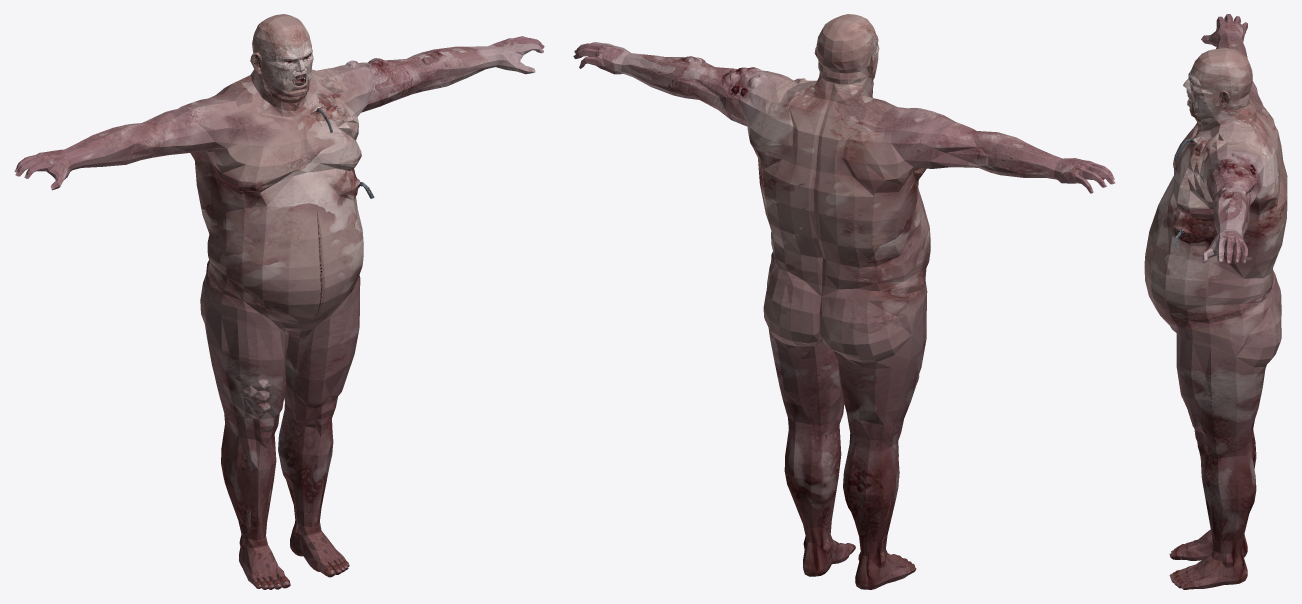
The model's file is enemy.obj.
3 renders of one model, left to right at view 1: azimuth 30°, elevation 25°; view 2: azimuth 150°, elevation 25°; view 3: azimuth 270°, elevation 25°, orthographic. The views are drawn at different scales.
Visible parts, largest first — view 1: None_None.002, 3_None, None_None, None_None.003, 1_None, None_None.001, 2_None, 2_None.001; view 2: None_None, None_None.002, None_None.003, 2_None, None_None.001, 2_None.001, 3_None; view 3: None_None.002, None_None, 3_None, None_None.001, None_None.003, 1_None, 2_None, 2_None.001.
Part boxes in pixels (<box>): None_None.002: <box>205,290,359,589</box>; 3_None: <box>207,172,363,320</box>; None_None: <box>190,68,360,338</box>; None_None.003: <box>142,58,422,157</box>; 1_None: <box>206,105,361,192</box>; None_None.001: <box>233,14,316,116</box>; 2_None: <box>62,45,499,171</box>; 2_None.001: <box>14,36,544,190</box>; None_None: <box>748,78,927,362</box>; None_None.002: <box>768,302,926,589</box>; None_None.003: <box>678,67,989,170</box>; 2_None: <box>618,51,1064,179</box>; None_None.001: <box>797,14,882,108</box>; 2_None.001: <box>573,42,1115,193</box>; 3_None: <box>900,188,930,275</box>; None_None.002: <box>1169,336,1266,589</box>; None_None: <box>1166,97,1287,367</box>; 3_None: <box>1144,176,1244,323</box>; None_None.001: <box>1183,47,1256,137</box>; None_None.003: <box>1203,81,1270,211</box>; 1_None: <box>1172,123,1214,221</box>; 2_None: <box>1213,31,1249,236</box>; 2_None.001: <box>1201,14,1247,263</box>.
Size of the model in its own units: 1.8 by 1.78 by 0.4439.
